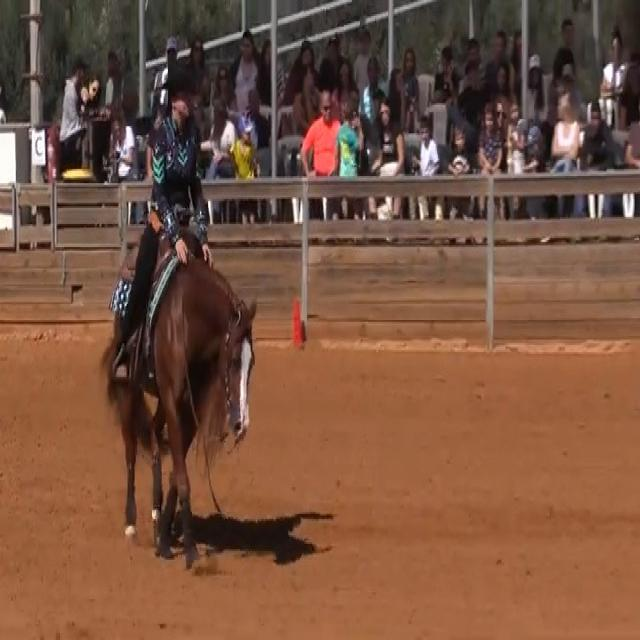horse: (101, 224, 257, 569)
